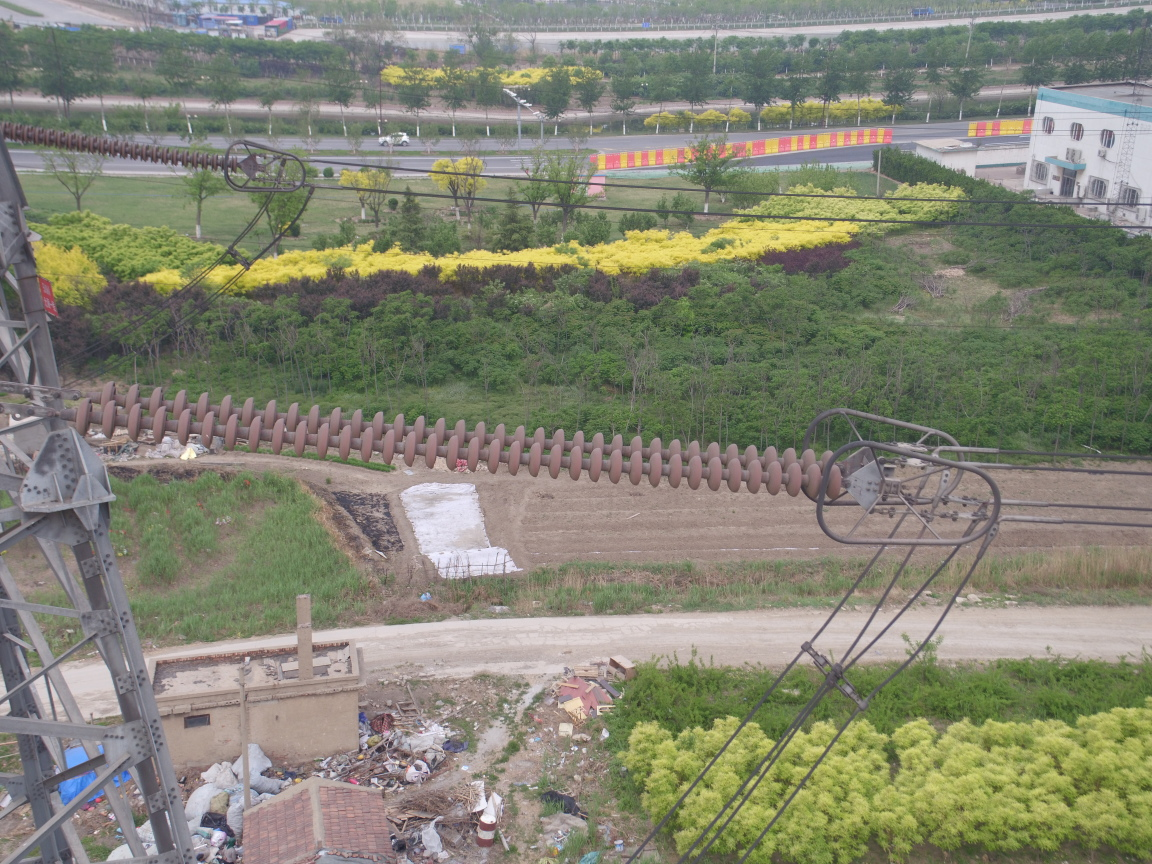insulator: (47, 373, 861, 503), (1, 118, 244, 175)
